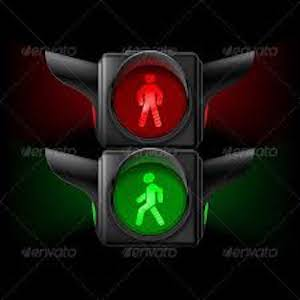green: (127, 169, 176, 229)
red: (130, 73, 174, 135)
